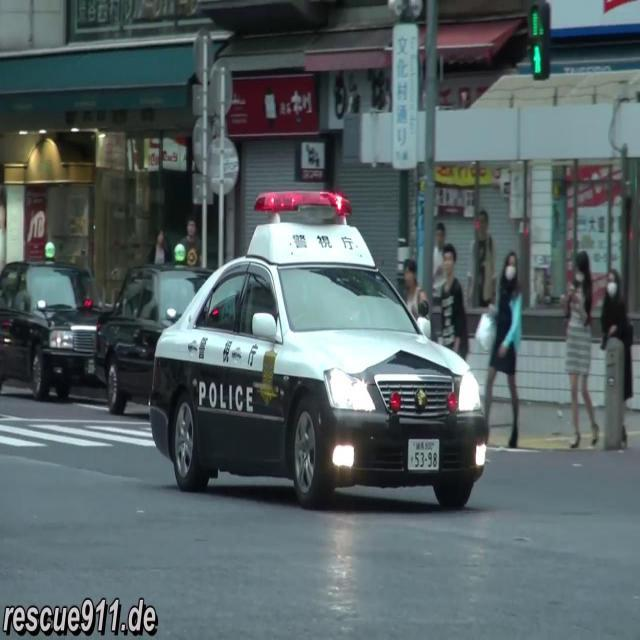fire_truck: (150, 188, 490, 508)
